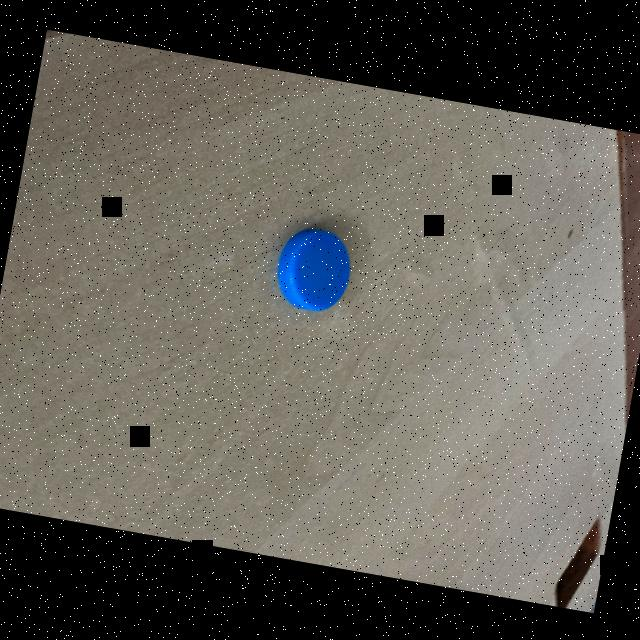plastic_bottle_cap: (266, 210, 366, 321)
